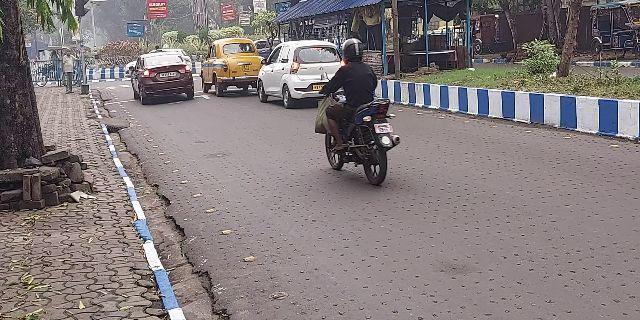Car: (254, 40, 350, 105), (202, 37, 265, 96), (135, 48, 197, 103)
Motorbike: (311, 37, 400, 182)
